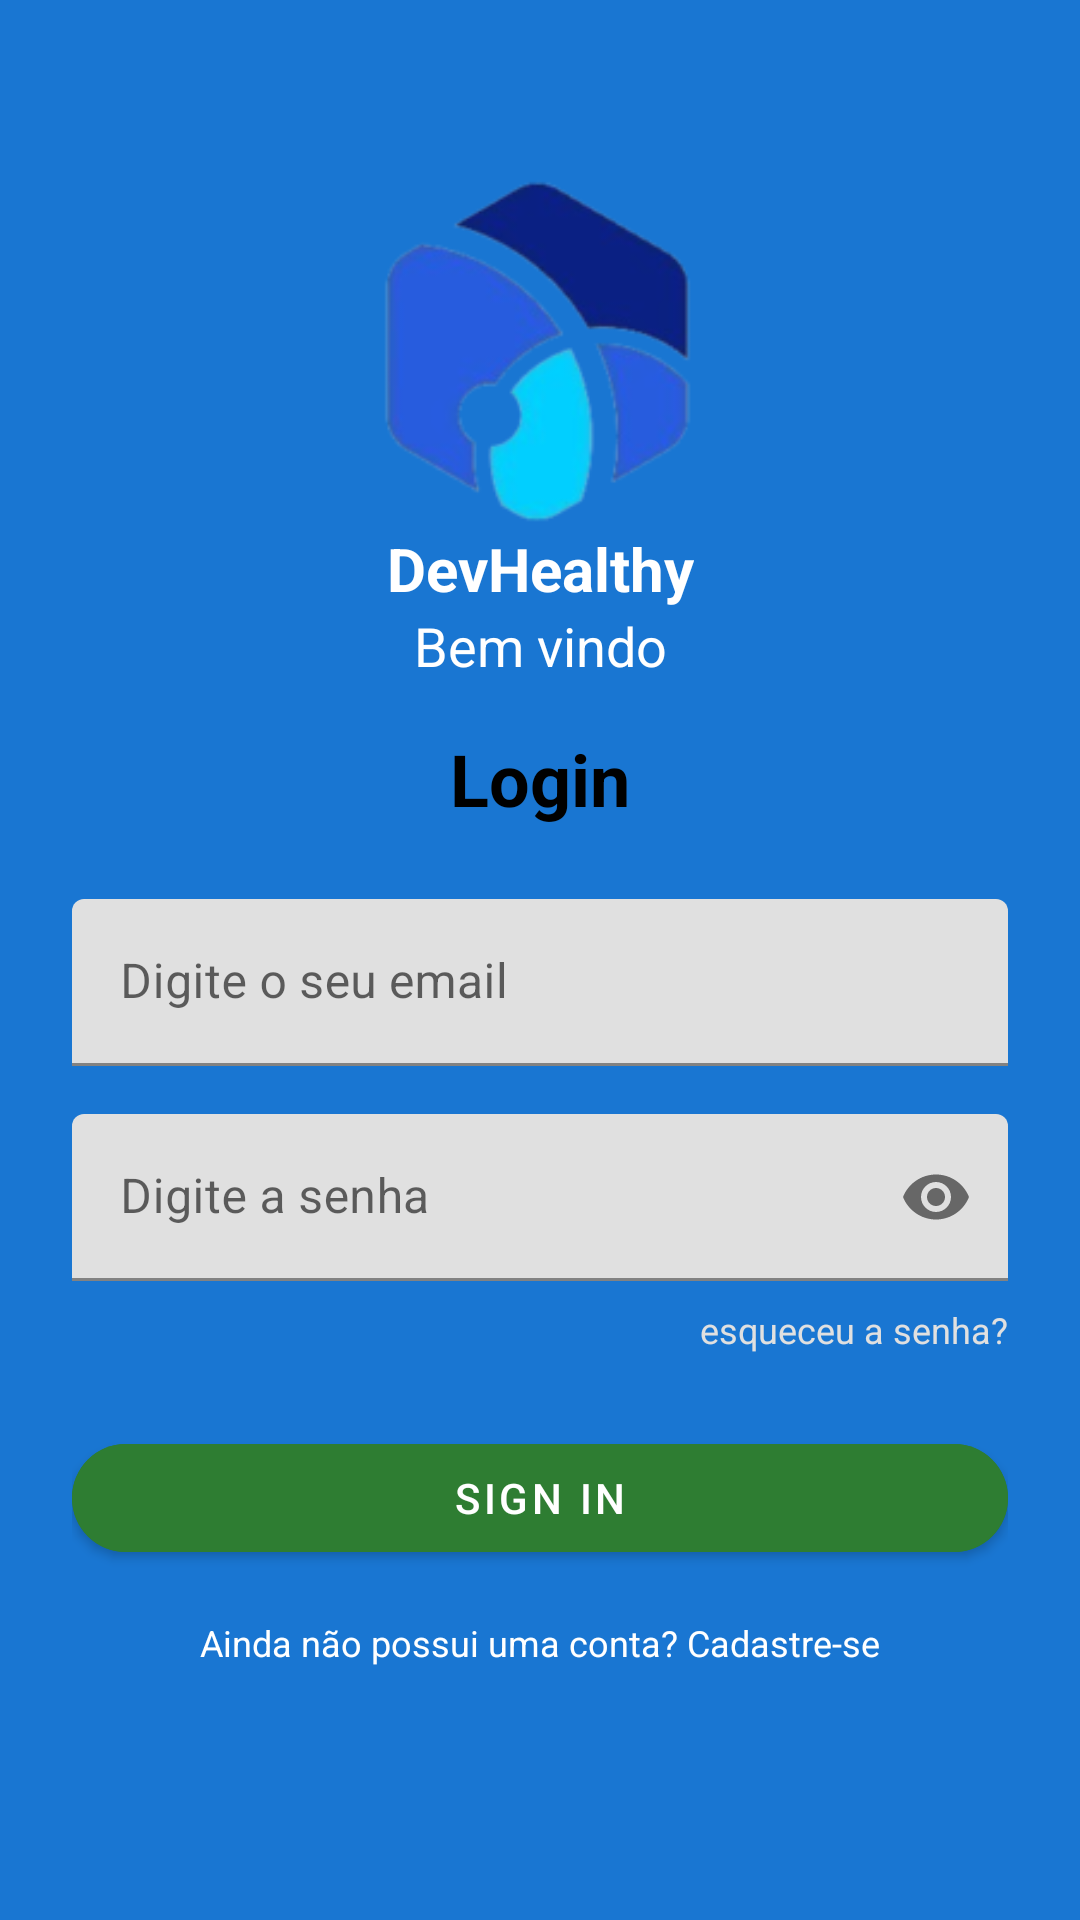

Named icons in this screenshot (1080w x 1920h) and their centers, (x=x, y=y):
iconeapp: (x=537, y=351)
